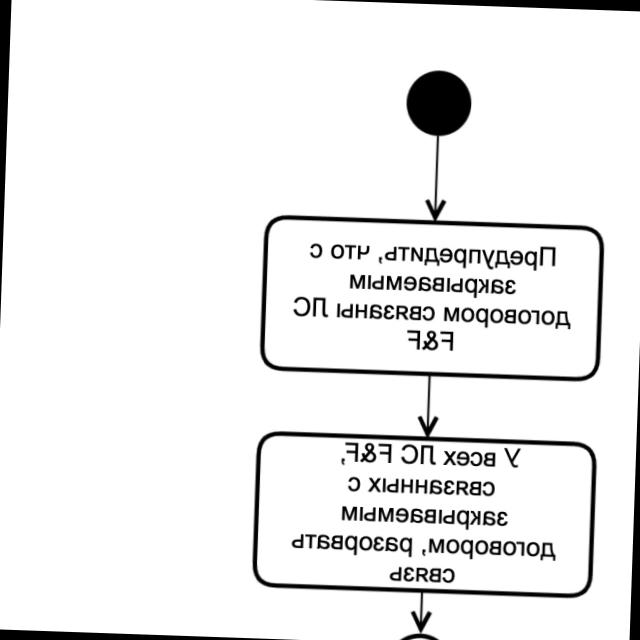arrow: (419, 136, 447, 221), (410, 376, 439, 437), (404, 593, 436, 634)
circle: (399, 65, 476, 141)
rectangle: (252, 431, 596, 598), (259, 215, 603, 382)
